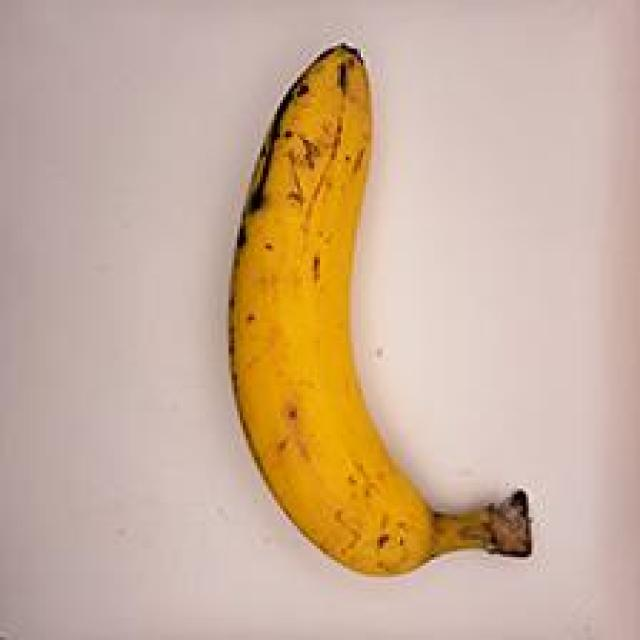Overripe: (205, 25, 558, 591)
